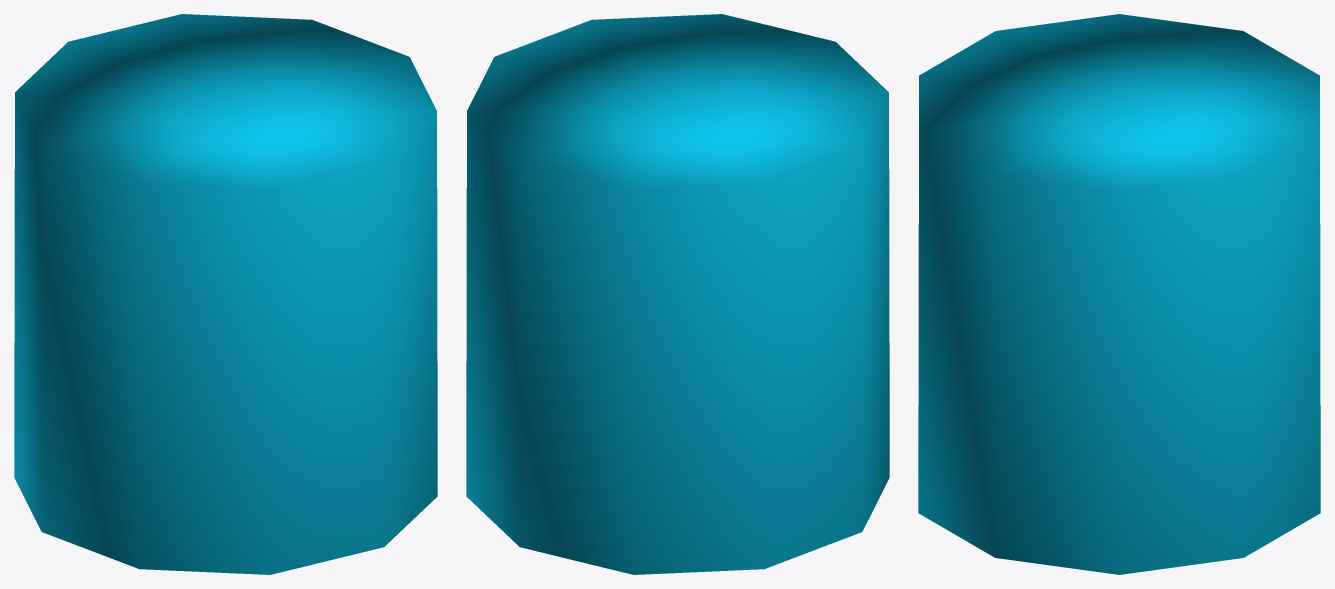
The model's file is Canned_Food_01_Lod1.fbx.
The picture shows the model from 3 angles, left to right: view 1: azimuth 30°, elevation 25°; view 2: azimuth 150°, elevation 25°; view 3: azimuth 270°, elevation 25°; orthographic projection.
Visible parts, largest first — view 1: Canned_Food_01_Lod1; view 2: Canned_Food_01_Lod1; view 3: Canned_Food_01_Lod1.
Part boxes in pixels (box(x1,y1,x2,y2)): Canned_Food_01_Lod1: box(14, 14, 437, 574); Canned_Food_01_Lod1: box(466, 14, 889, 574); Canned_Food_01_Lod1: box(918, 14, 1320, 574).
Bounding box in the file's own units: 11.62 × 11.6 × 11.05.
